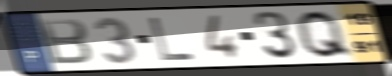3: (252, 10, 300, 61), (92, 15, 138, 67)
4: (205, 13, 241, 62)
B: (36, 17, 95, 67)
L: (147, 16, 198, 63)
Q: (293, 9, 357, 60)
